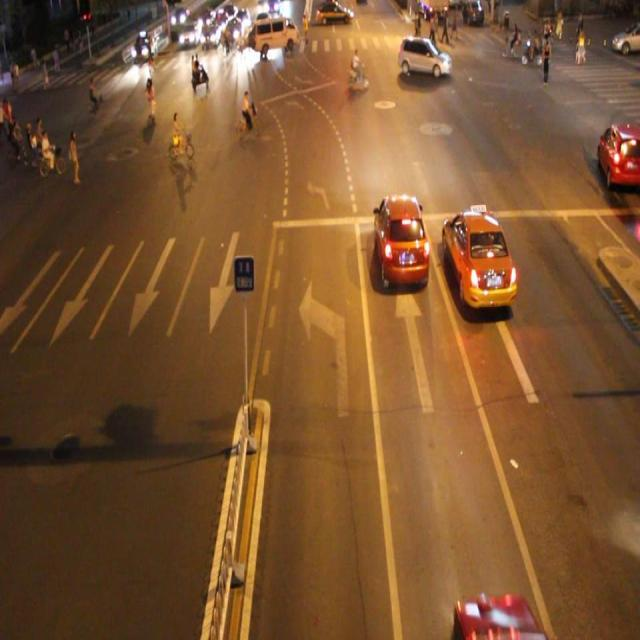car: (440, 204, 518, 308), (373, 192, 429, 288), (453, 589, 541, 640)
truck: (397, 34, 450, 79), (254, 19, 298, 52)
